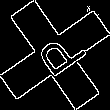P_SW: (24, 26, 86, 84)
